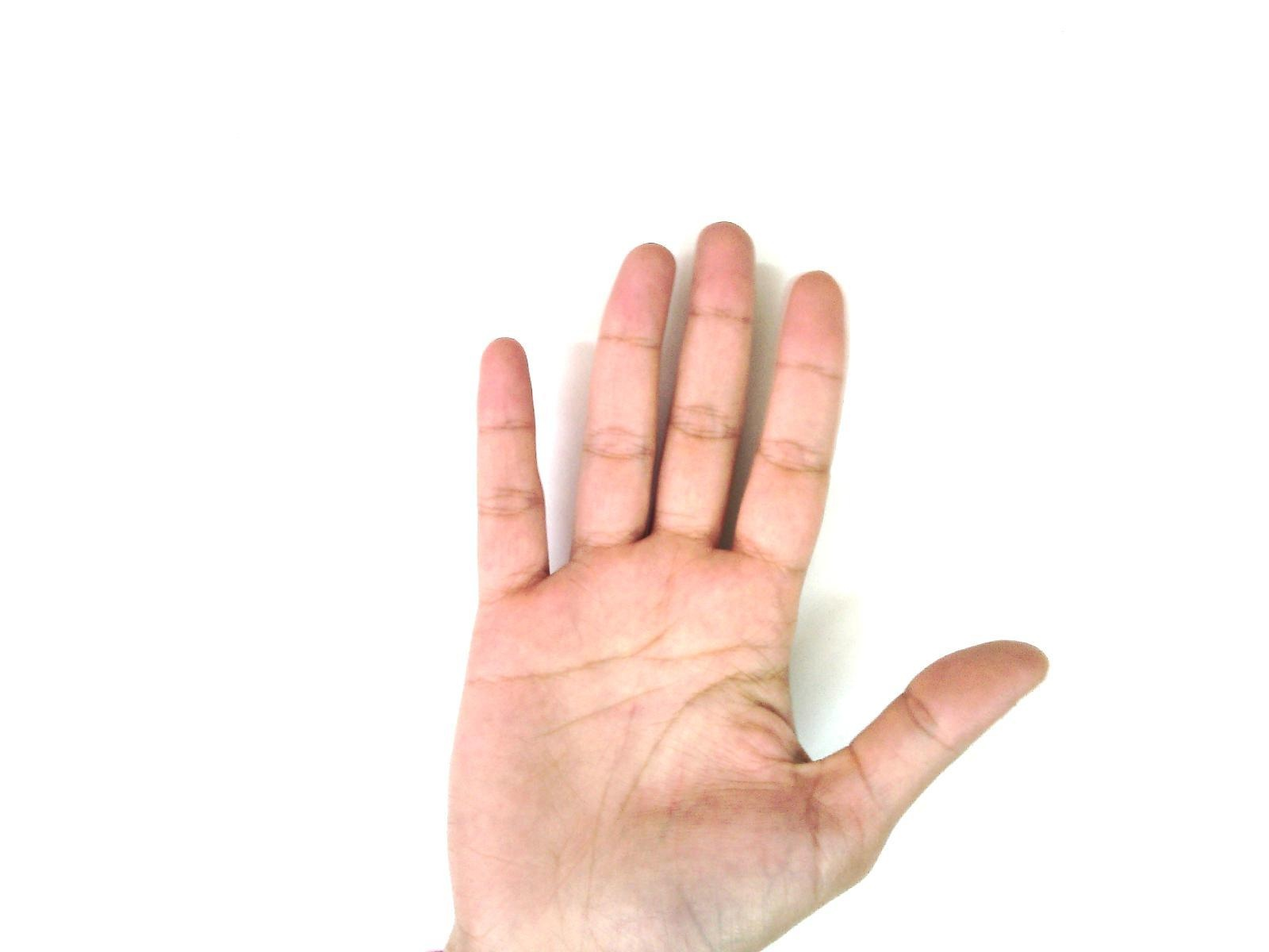open_palm: (438, 220, 1051, 952)
